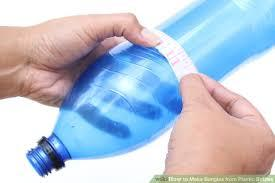Plastic bottle: (21, 8, 259, 171)
